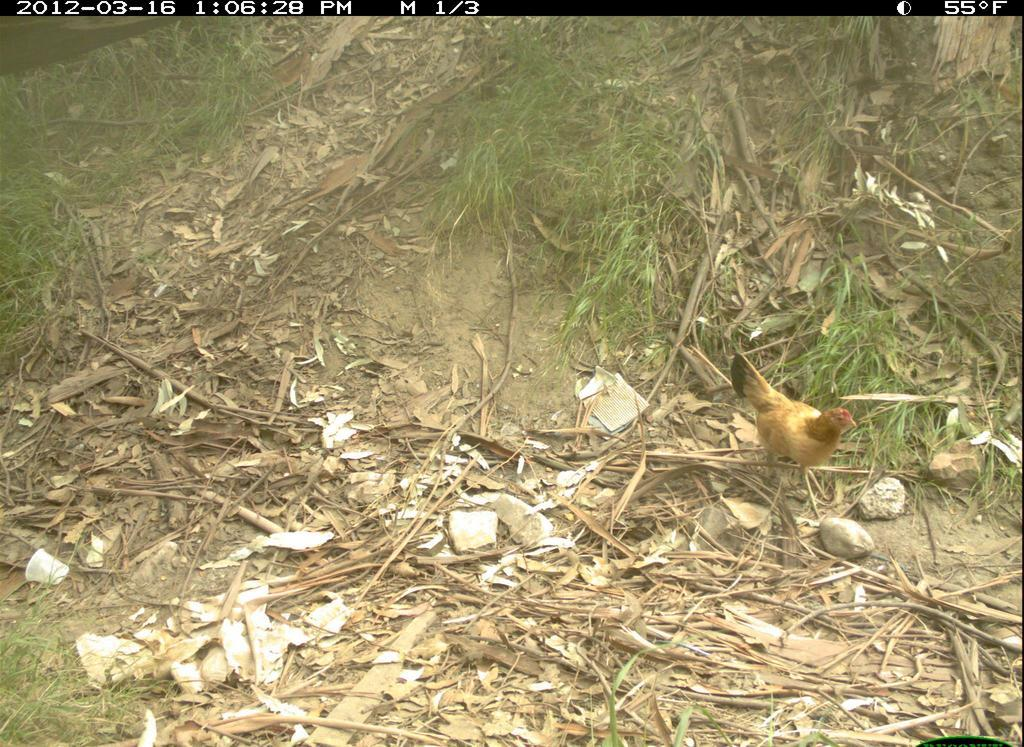bird: (708, 347, 882, 510)
